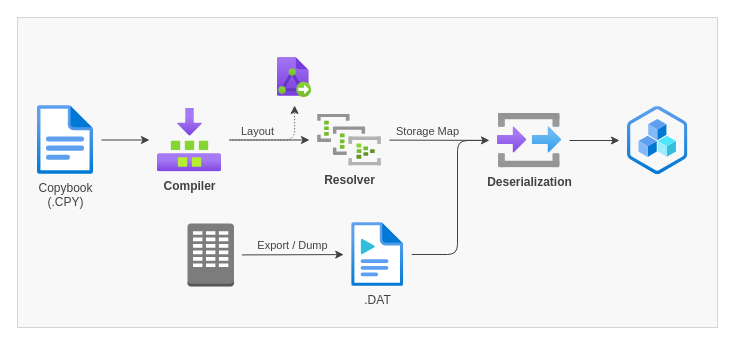
This 735x345 diagram has some shape labels left out. Each missing label, with the centre of its shape:
(For further use): the point at 294,77
ISAM / VSAM: the point at 210,254
Record Objects: the point at 657,140
